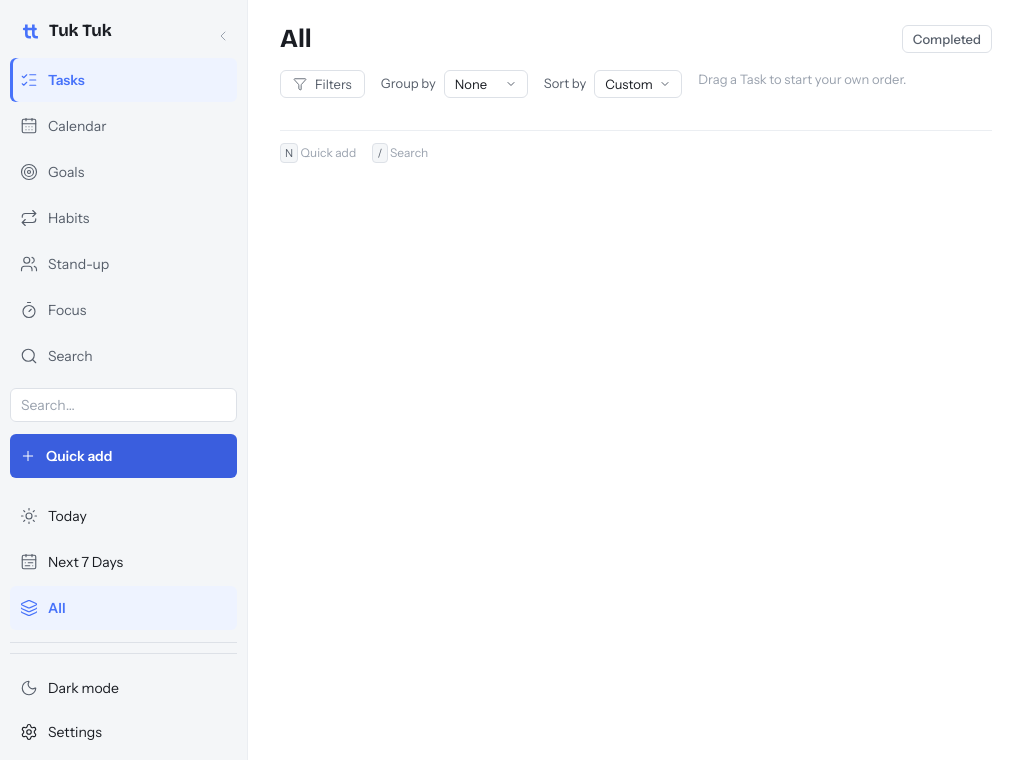
Test: Pomo timer › counts down an adjustable length with honest pause tracking
Click the link "Focus". click: (53, 310)
box: [20, 300, 86, 319]
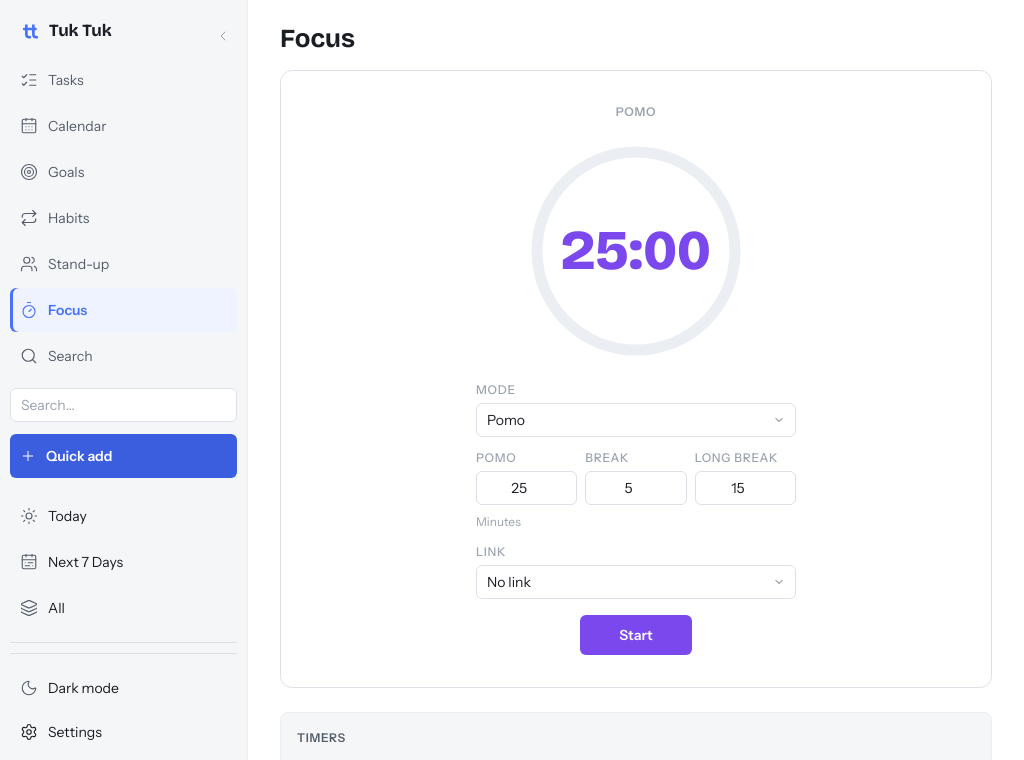
Expected: the heading "Focus" is shown, [280, 24, 355, 54]
Expected: the text "25:00" is shown, [561, 223, 711, 279]
Replace the text in the number field named "Pomo minutes" with "1". click: (527, 488)
box: [476, 471, 577, 505]
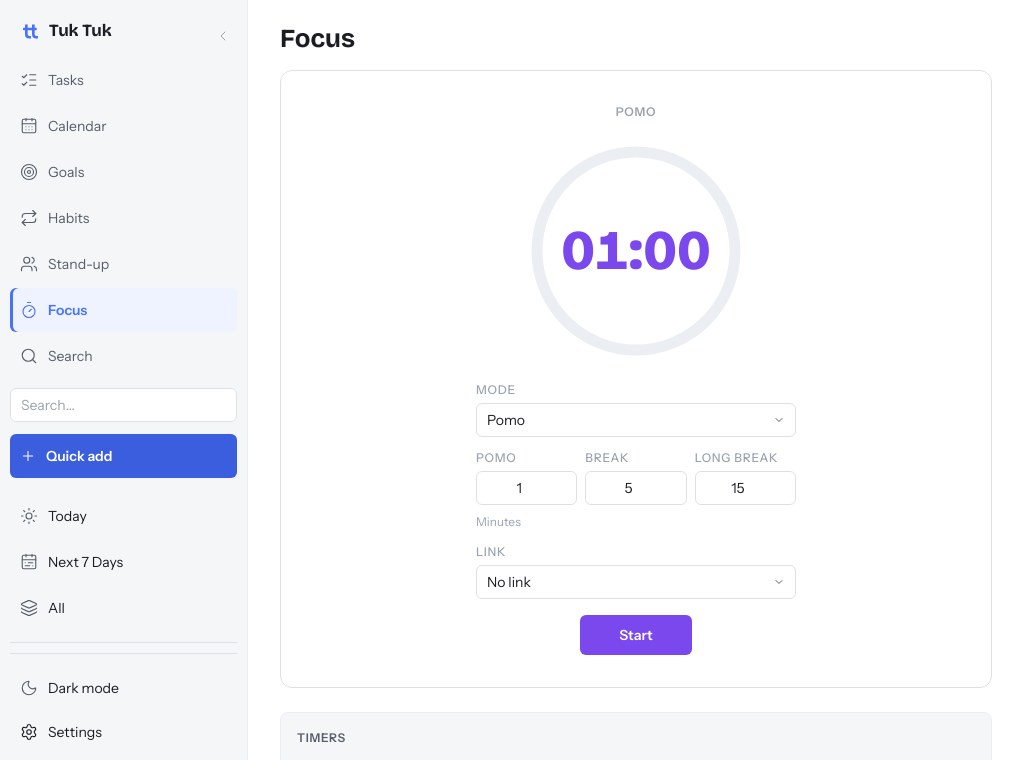
Expected: the text "01:00" is shown, [561, 223, 711, 279]
Click the button "Start". click: (636, 635)
box: [580, 615, 692, 655]
Wait 30000 ms
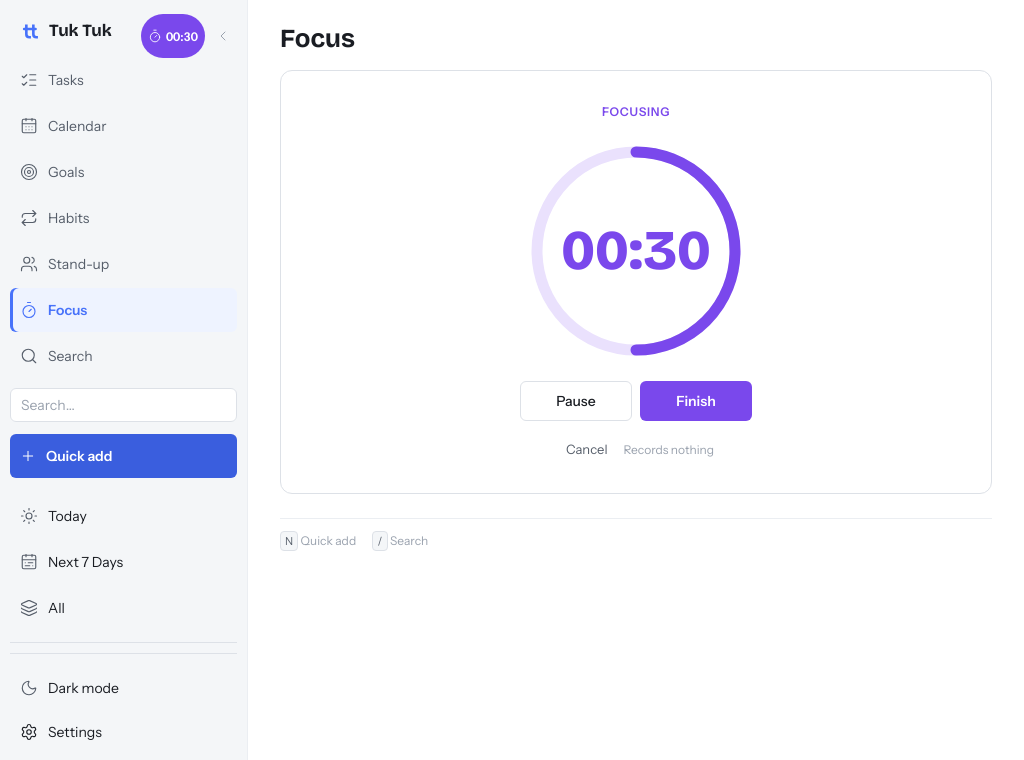
Expected: the text "00:30" below "Focusing" is shown, [561, 217, 711, 284]
Click the button "Pause". click: (576, 401)
box: [520, 381, 632, 421]
Wait 20000 ms
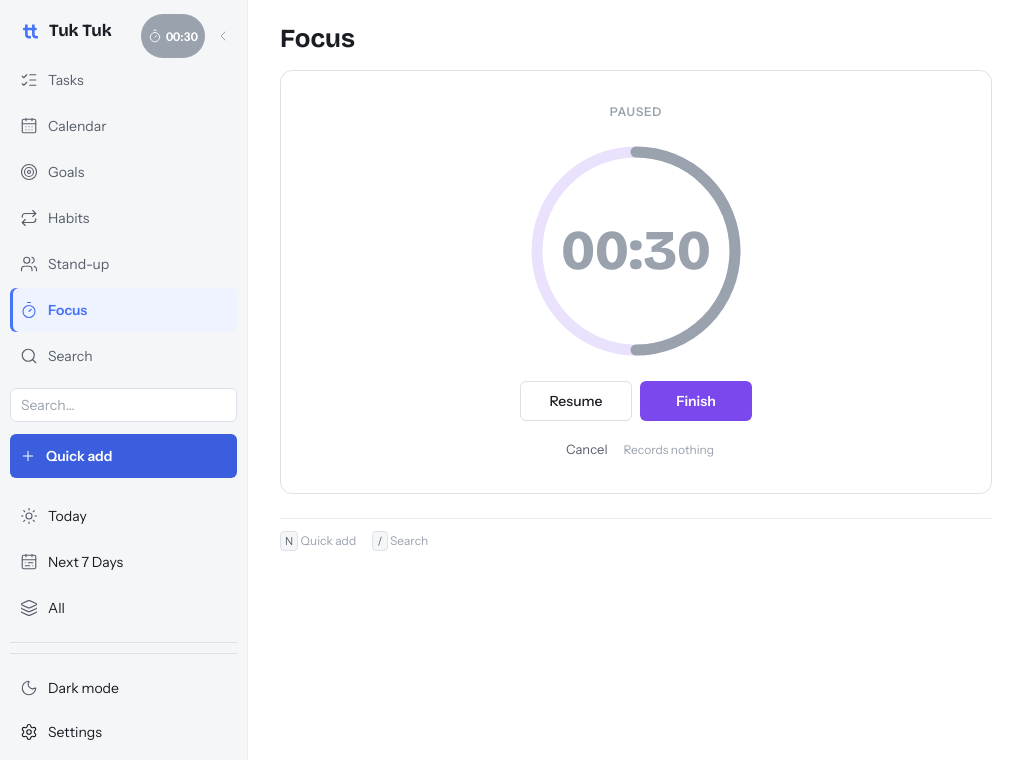
Expected: the text "00:30" below "Paused" is shown, [561, 217, 711, 284]
Click the button "Resume". click: (576, 401)
box: [520, 381, 632, 421]
Wait 30000 ms
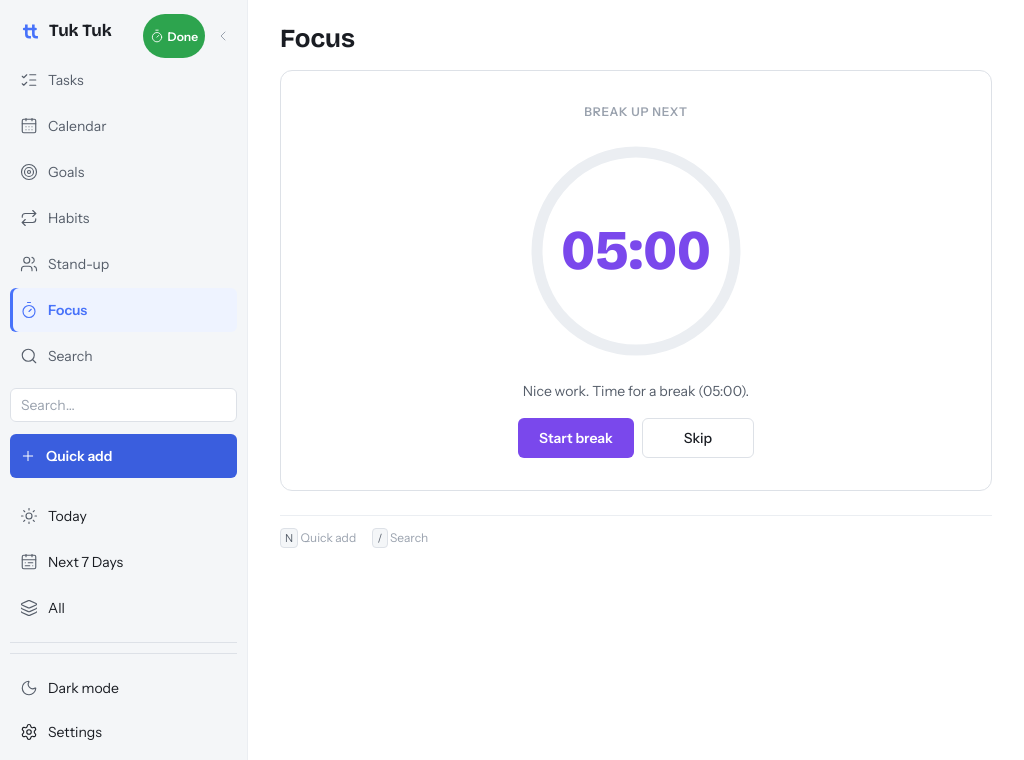
Expected: the button "Skip" is shown
Click the button "Skip". click: (698, 438)
box: [642, 418, 754, 458]
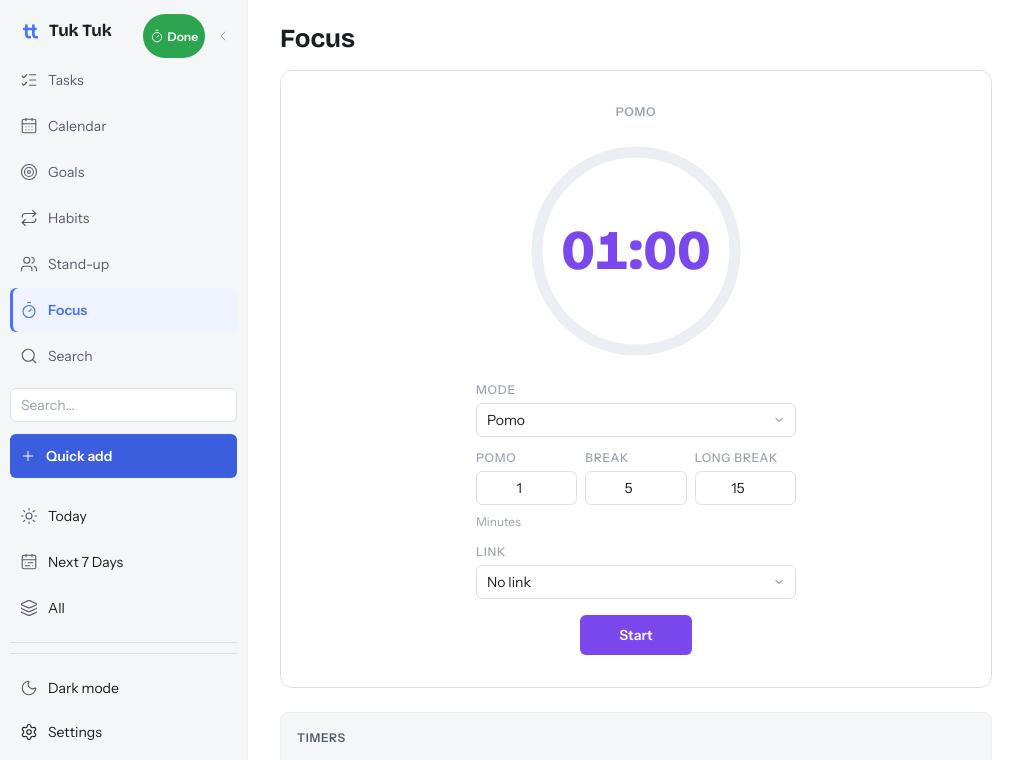
Expected: the text "01:00" is shown, [561, 223, 711, 279]
